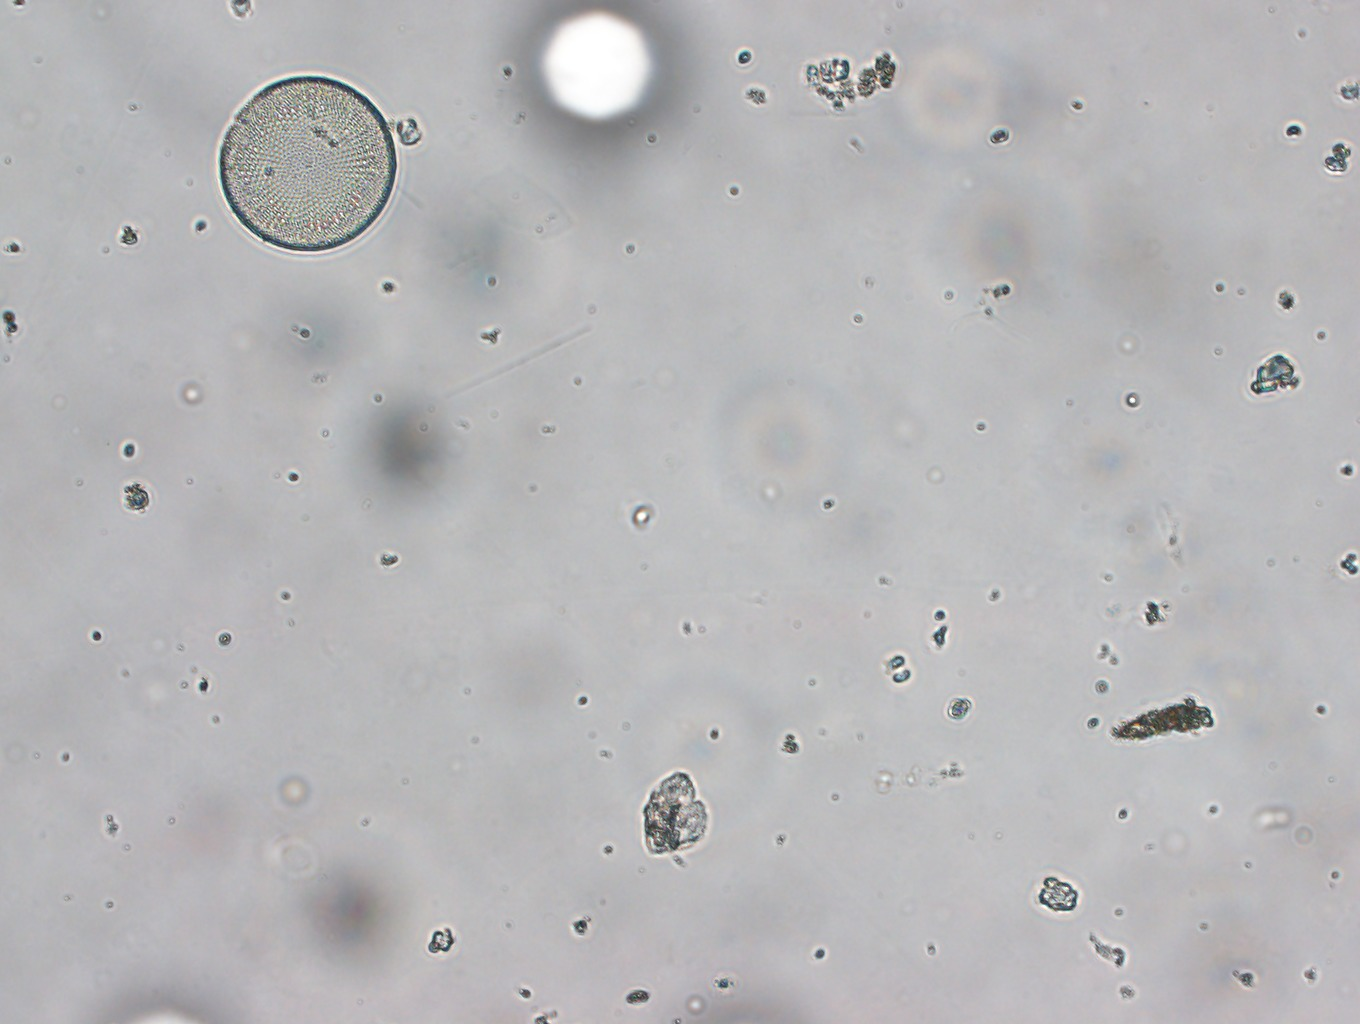coscinodiscus: (207, 70, 406, 256)
